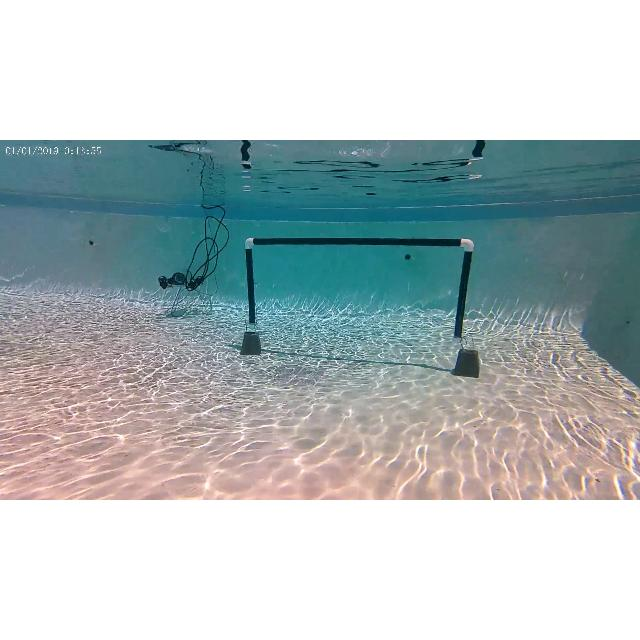prequal gate: (245, 238, 475, 344)
prequal gate leg l: (239, 237, 261, 356)
prequal gate leg r: (451, 237, 479, 373)
